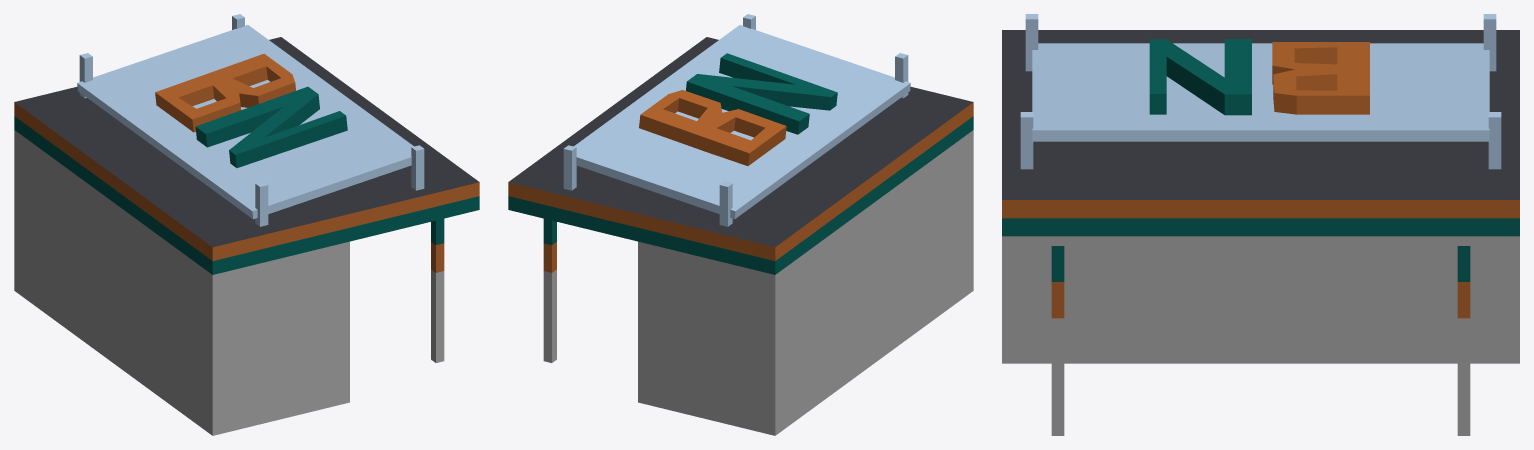
Rendered from Terminal.fbx.
3 renders of one model, left to right at view 1: azimuth 30°, elevation 25°; view 2: azimuth 150°, elevation 25°; view 3: azimuth 270°, elevation 25°, orthographic. The views are drawn at different scales.
Parts seen in each view (by area): view 1: Cube; view 2: Cube; view 3: Cube.
Boxes of the visible parts, x1,y1,x2,y2 form: Cube: (14,14,479,435); Cube: (508,14,973,435); Cube: (1002,14,1519,435).
Size of the model in its own units: 1067 by 890 by 1374.
